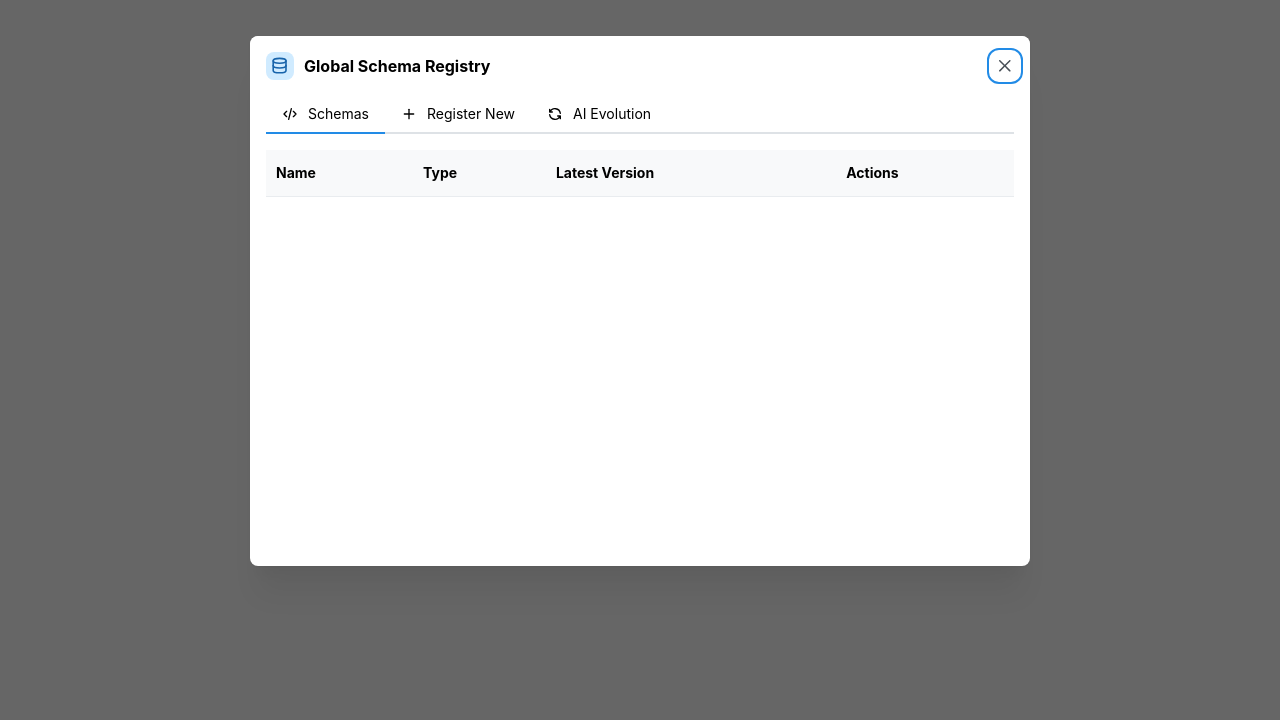
Schema change analysis › says when nothing downstream of the workflow is known
Click the tab "AI Evolution" at point(599, 115), box [531,96,667,134]
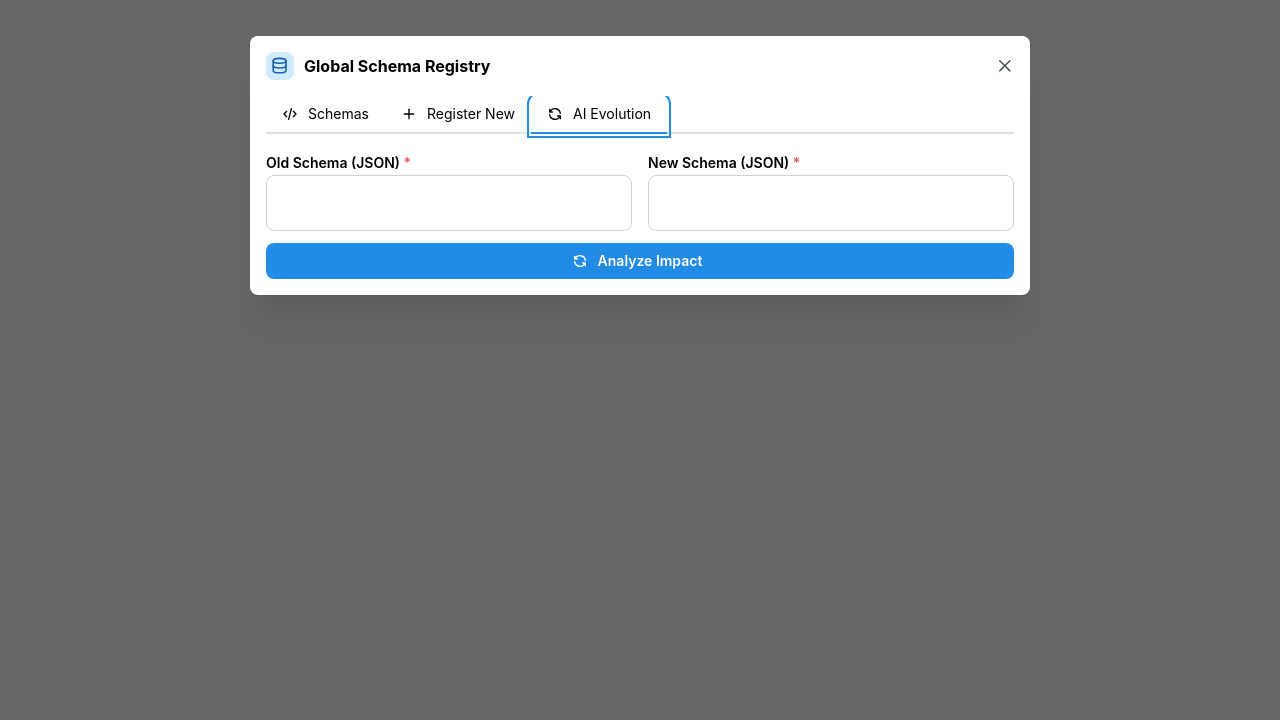
Click the text box labelled "Old Schema (JSON) *" at point(449, 203), box [266,175,632,231]
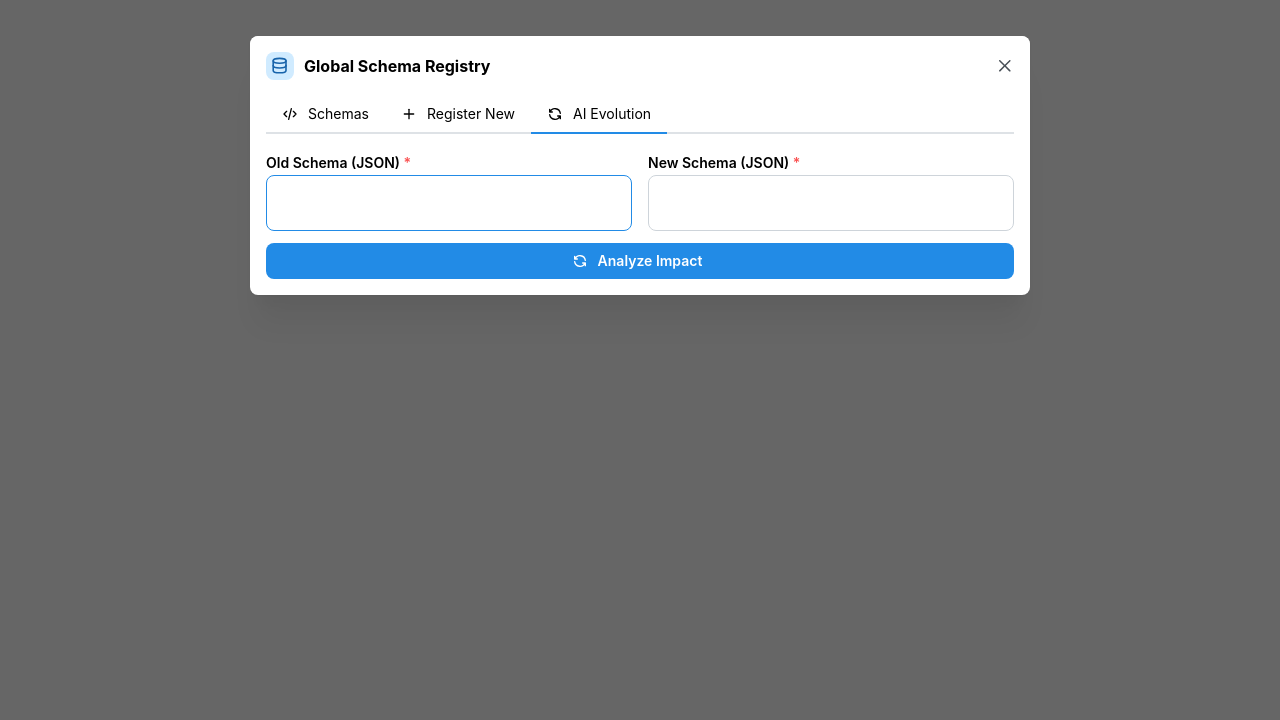
Type keys "{\"id\":1,\"total\":2}"
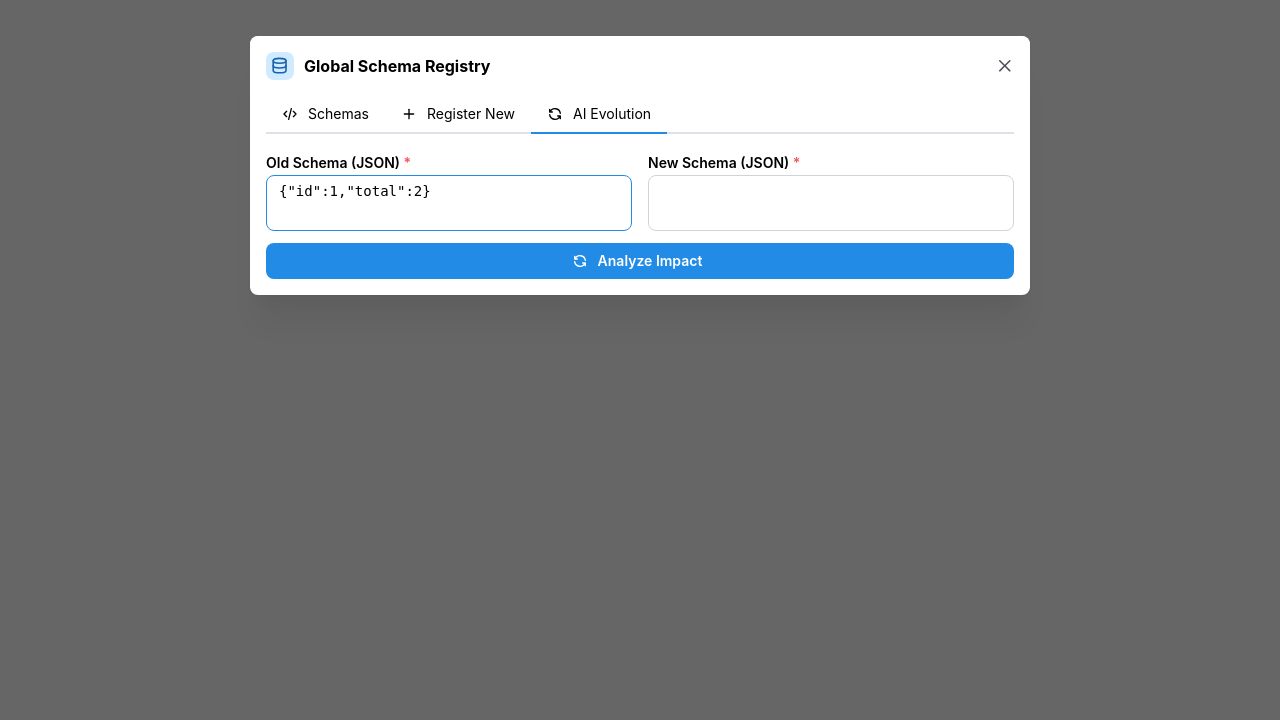
Click the text box labelled "New Schema (JSON) *" at point(831, 203), box [648,175,1014,231]
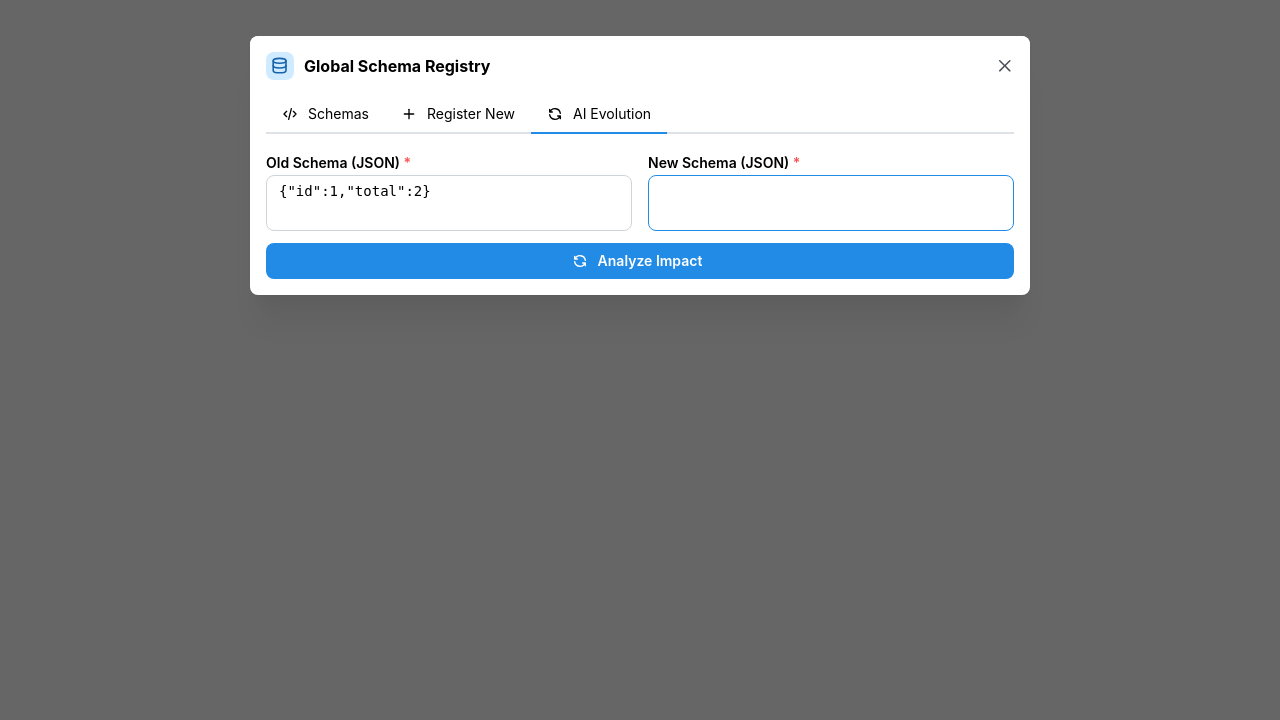
Type keys "{\"id\":1}"
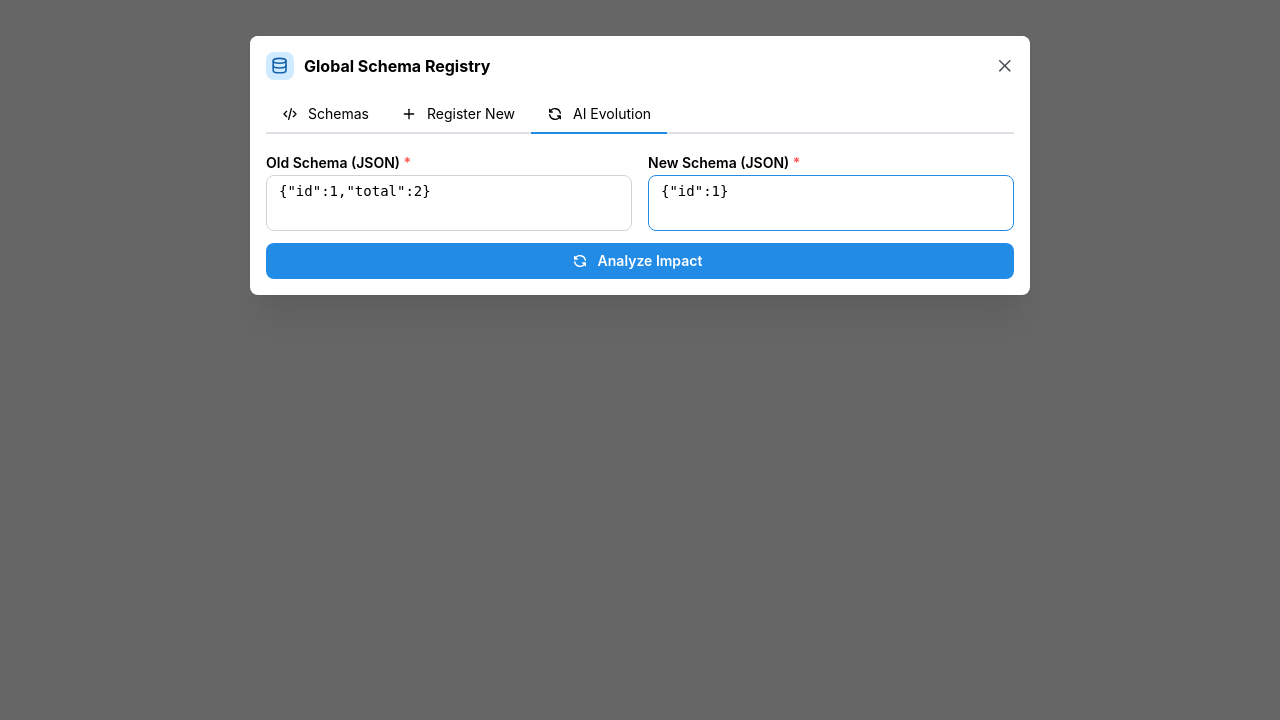
Click the button "Analyze Impact" at point(640, 261), box [266,243,1014,279]
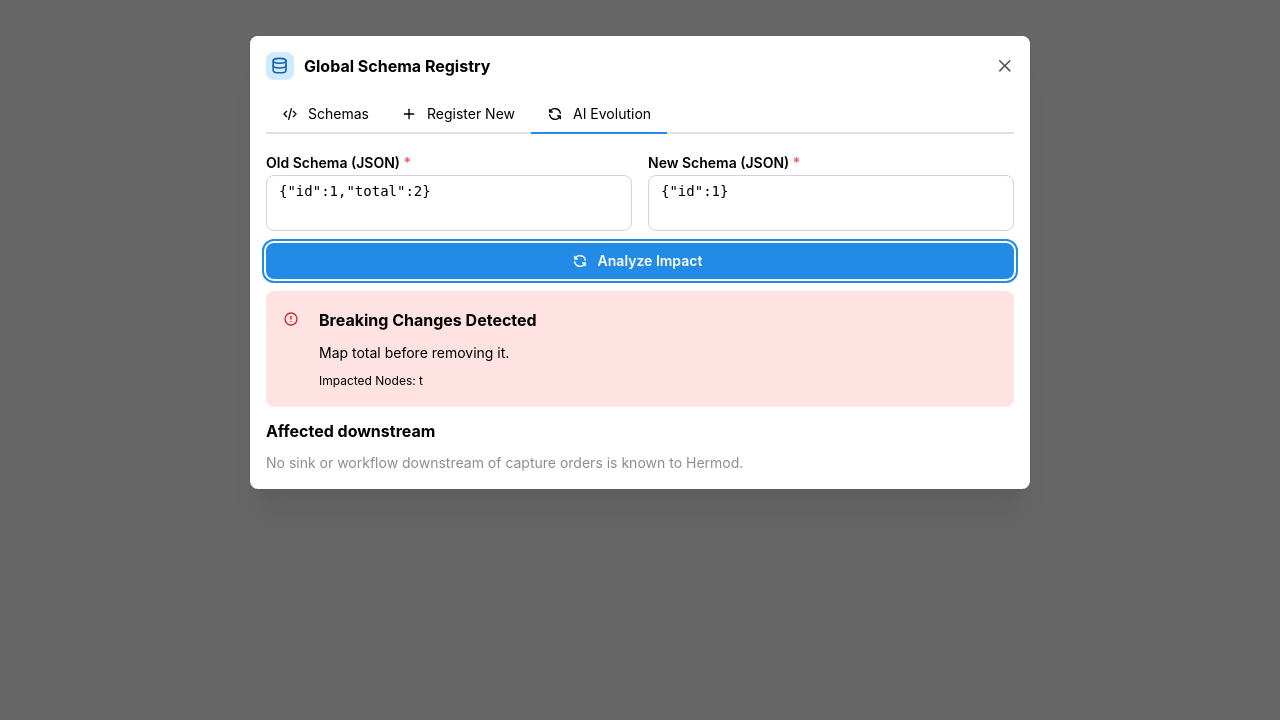
Now the text "No sink or workflow downstream of capture orders" is shown, box [266,454,743,471]
